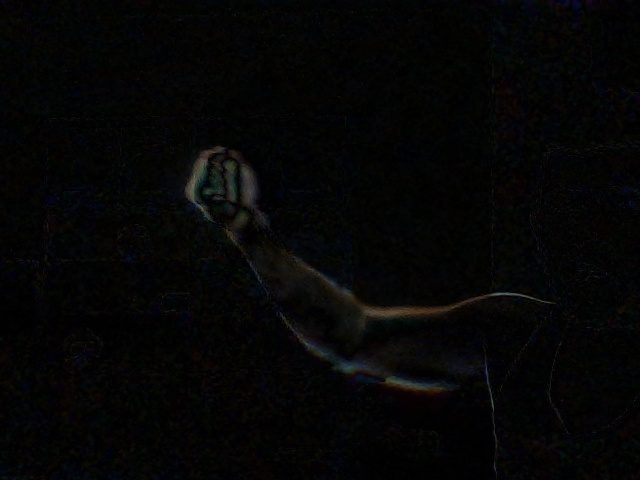hand_fi: (177, 139, 267, 230)
